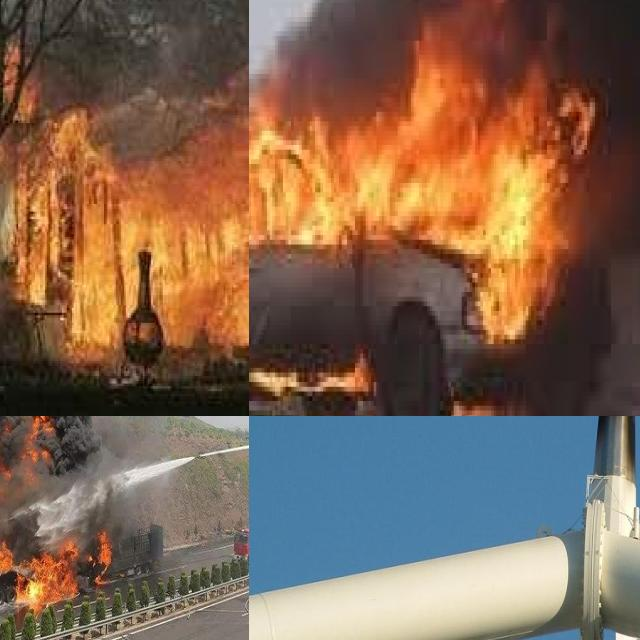fire: (249, 0, 584, 382), (0, 44, 249, 363), (0, 416, 111, 609)
smoke: (249, 0, 549, 121), (557, 0, 640, 249), (0, 416, 94, 592)
